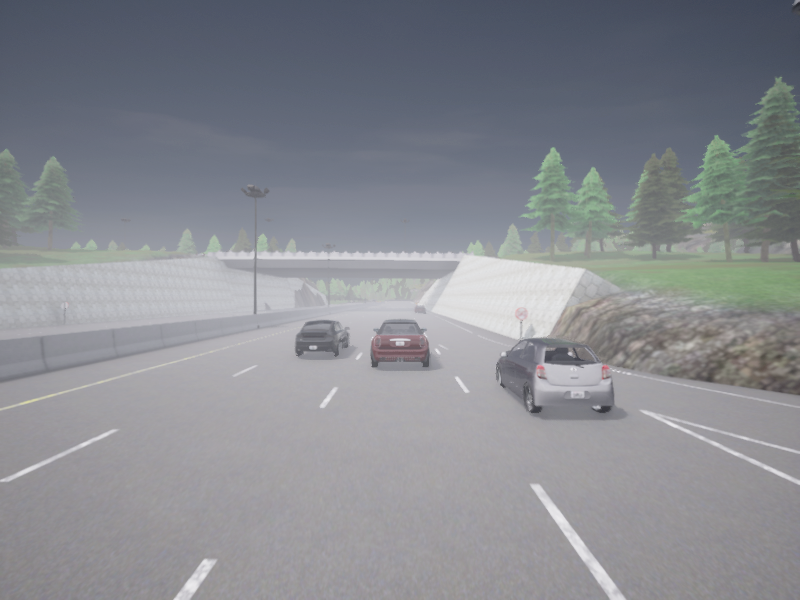vehicle: (496, 337, 613, 413), (370, 319, 429, 366), (295, 319, 349, 355), (414, 305, 424, 313)
